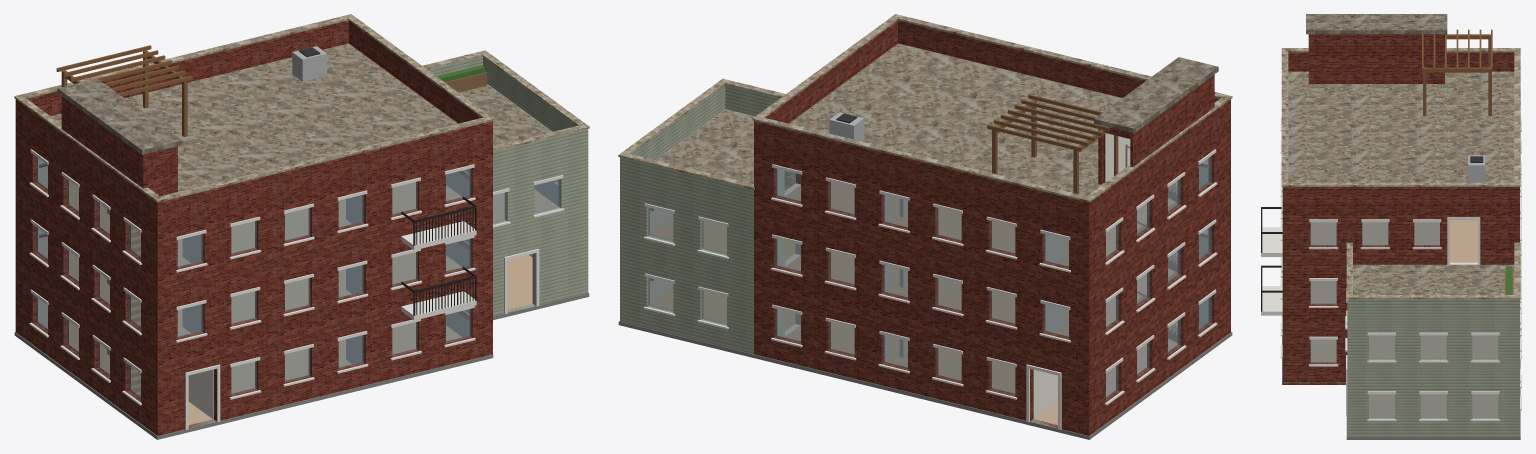
The model's file is ns-garden-apartments.towns-v1.lod0.glb.
3 views of the same model, side by side, from view 1: azimuth 30°, elevation 25°; view 2: azimuth 150°, elevation 25°; view 3: azimuth 270°, elevation 25° (orthographic). The views are drawn at different scales.
Parts seen in each view (by area): view 1: ns-garden-apartments; view 2: ns-garden-apartments; view 3: ns-garden-apartments.
Part boxes in pixels (x1=…): ns-garden-apartments: x1=14, y1=14, x2=589, y2=439; ns-garden-apartments: x1=618, y1=14, x2=1232, y2=439; ns-garden-apartments: x1=1261, y1=14, x2=1521, y2=439.
Size of the model in its own units: 21.18 by 11.95 by 12.09.
Materials: 7 (3 with a texture image).
